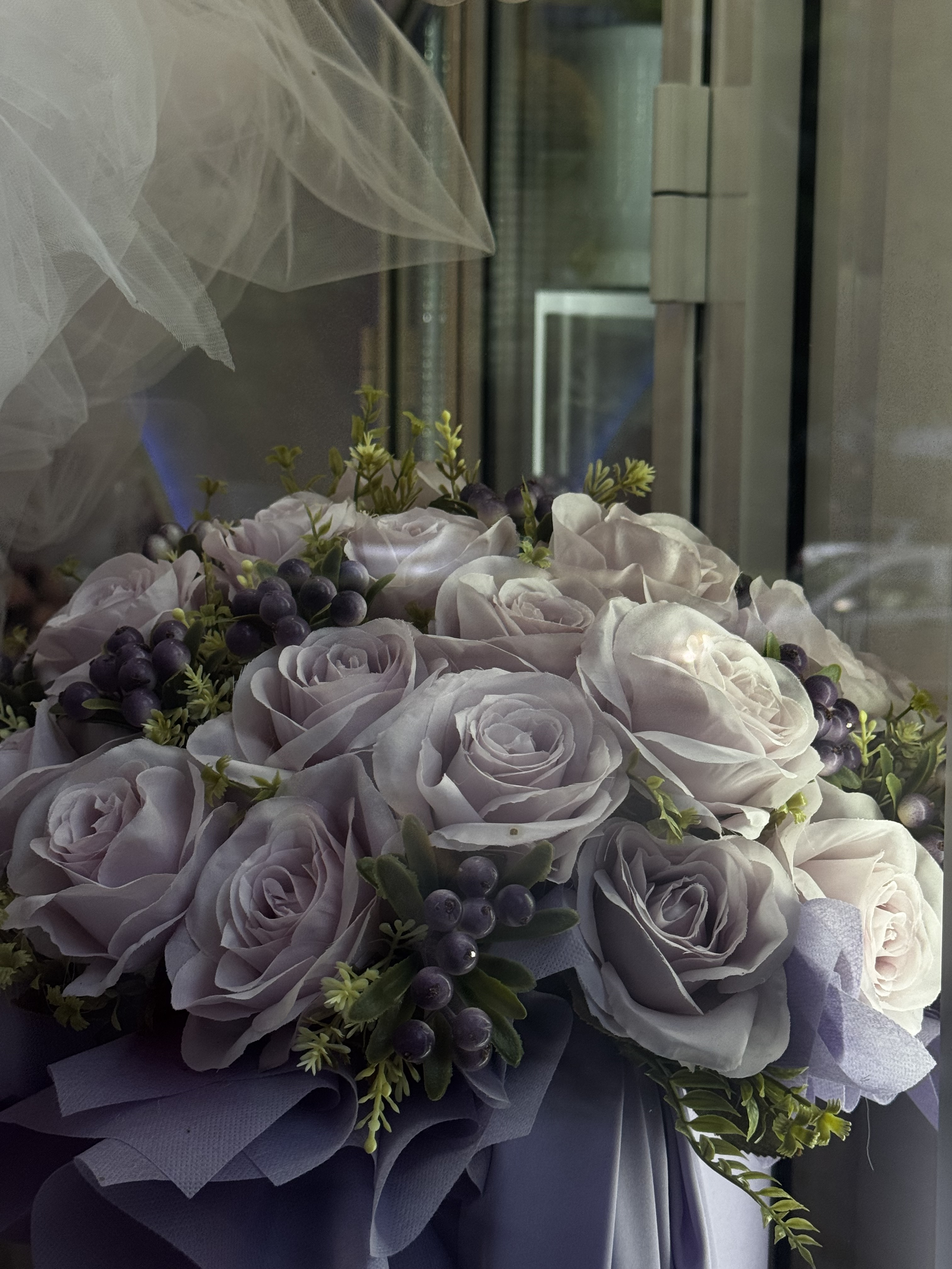rose: (139, 791, 385, 1067), (539, 826, 791, 1093), (2, 740, 248, 992), (753, 753, 952, 1059), (586, 595, 815, 843), (363, 661, 635, 866), (184, 618, 479, 800), (530, 451, 731, 631), (331, 469, 530, 618), (24, 537, 214, 685), (192, 488, 381, 603), (445, 563, 616, 689)
